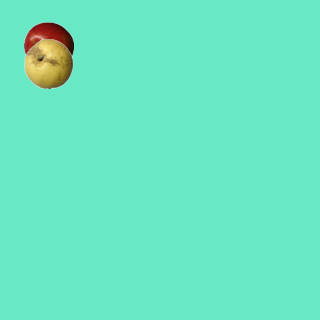Apple Braeburn: (23, 21, 73, 71)
Apple Golden 1: (23, 38, 73, 88)
